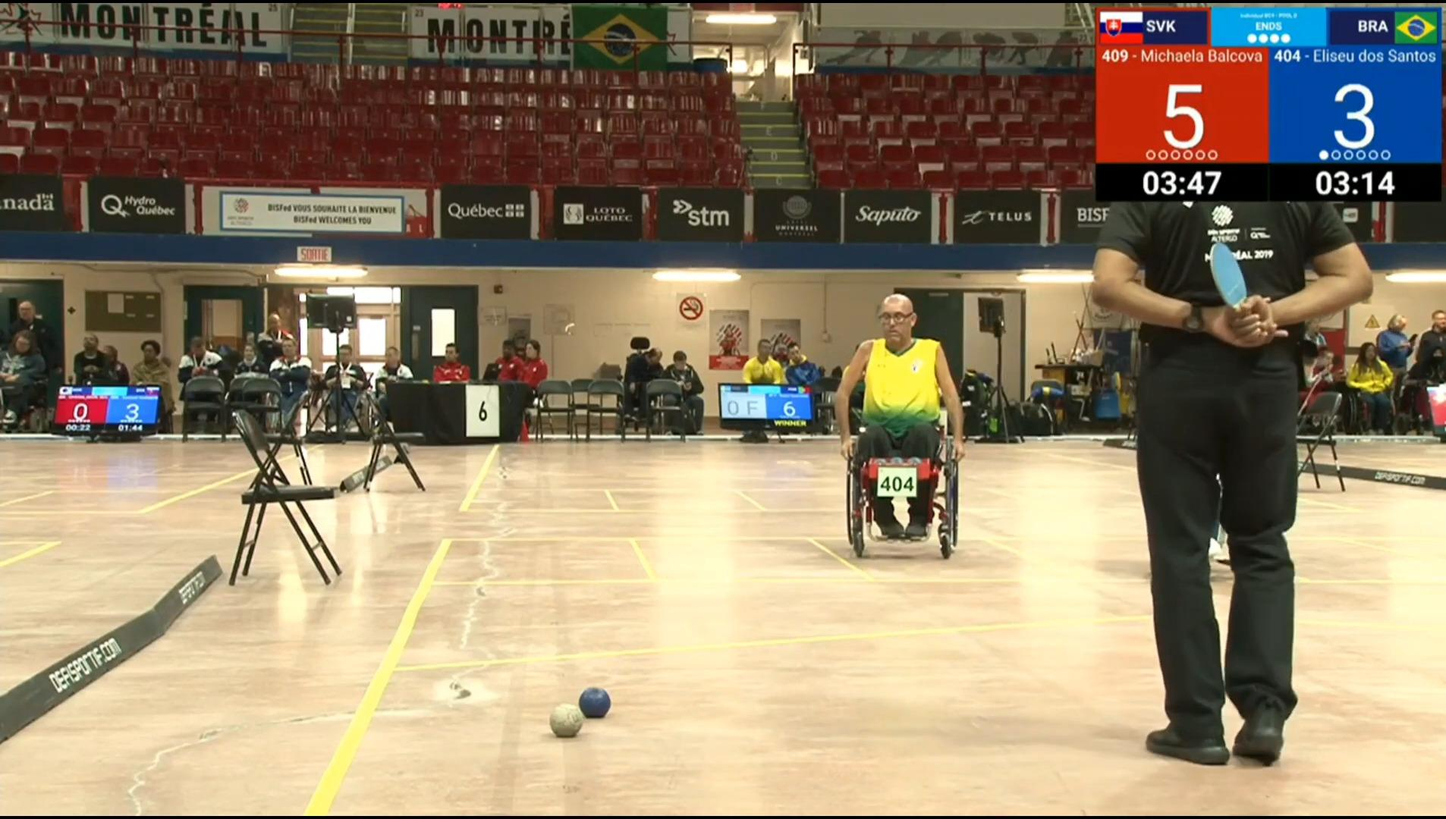blue_ball: (578, 688, 611, 717)
white_ball: (549, 704, 583, 737)
